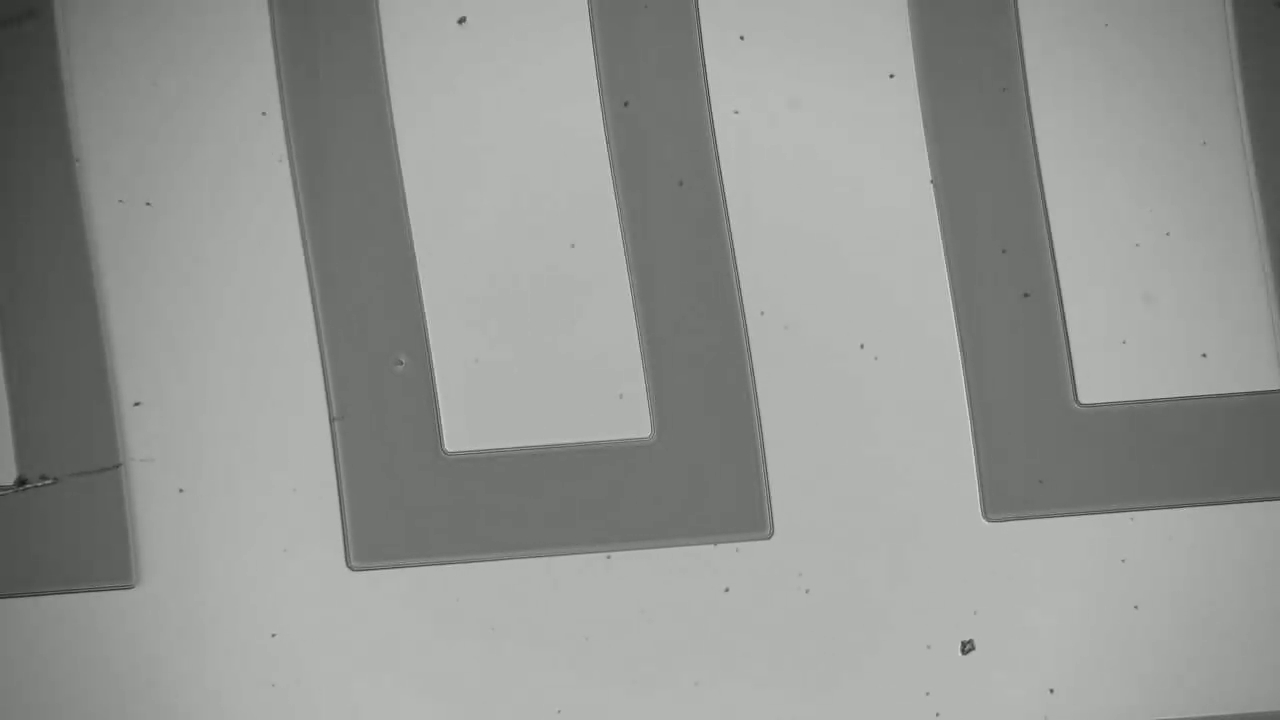scratch: (2, 469, 119, 496)
